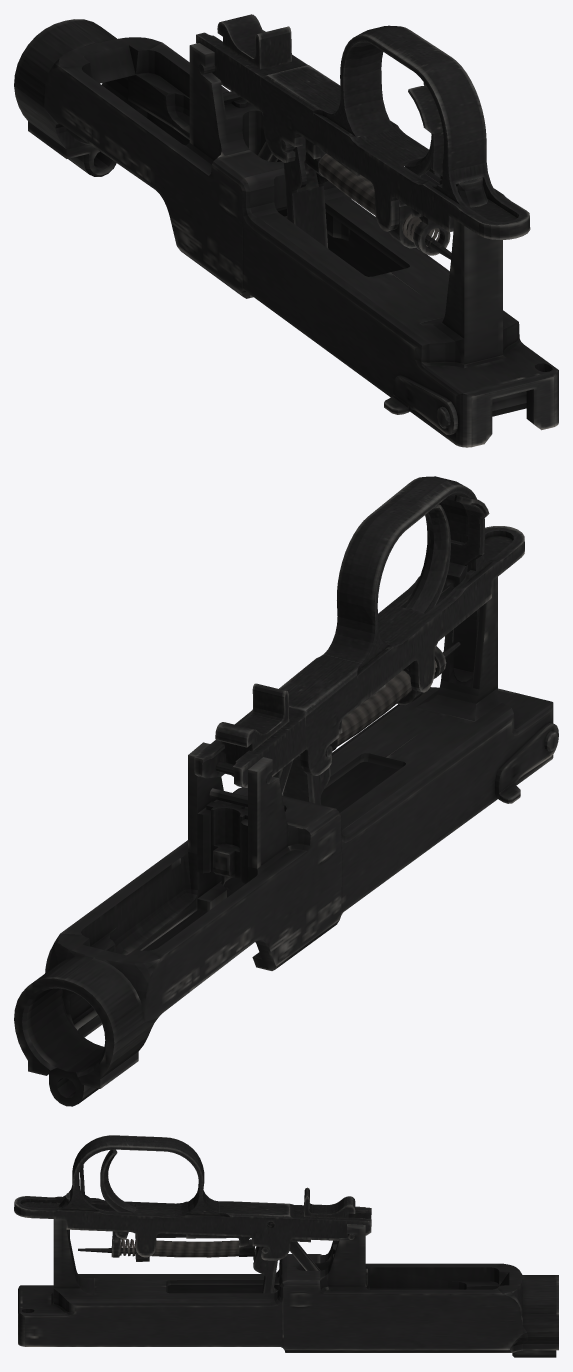
3 views of the same model, one above another, from view 1: azimuth 30°, elevation 25°; view 2: azimuth 150°, elevation 25°; view 3: azimuth 270°, elevation 25° (orthographic). The views are drawn at different scales.
Parts seen in each view (by area): view 1: TW_587e02ff24597743df3deaeb_PZ_Import; view 2: TW_587e02ff24597743df3deaeb_PZ_Import; view 3: TW_587e02ff24597743df3deaeb_PZ_Import.
Part boxes in pixels (box(x1,y1,x2,y2)): TW_587e02ff24597743df3deaeb_PZ_Import: box(14, 14, 558, 447); TW_587e02ff24597743df3deaeb_PZ_Import: box(14, 476, 558, 1106); TW_587e02ff24597743df3deaeb_PZ_Import: box(14, 1135, 558, 1357).
Bounding box in the file's own units: 0.0214 × 0.1418 × 0.0624.
Materials: 1 (1 with a texture image).
